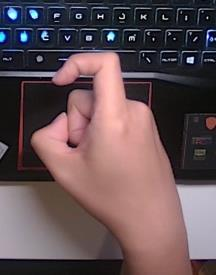anticlockwise: (27, 49, 183, 234)
